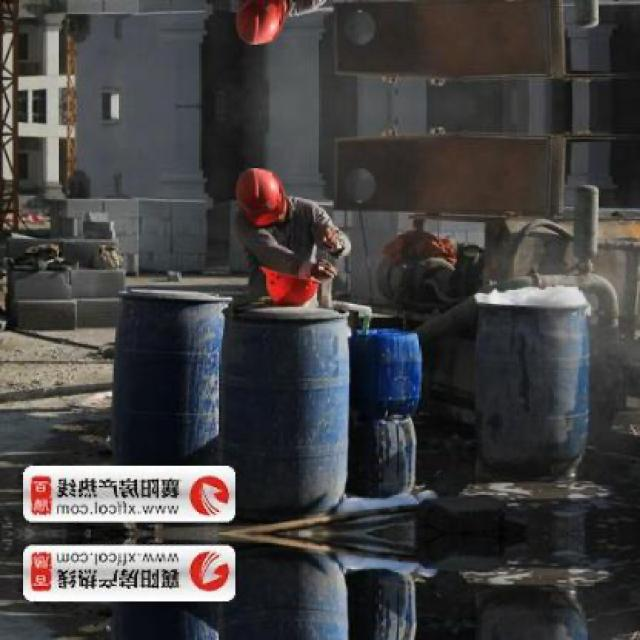con casco: (215, 138, 306, 268)
